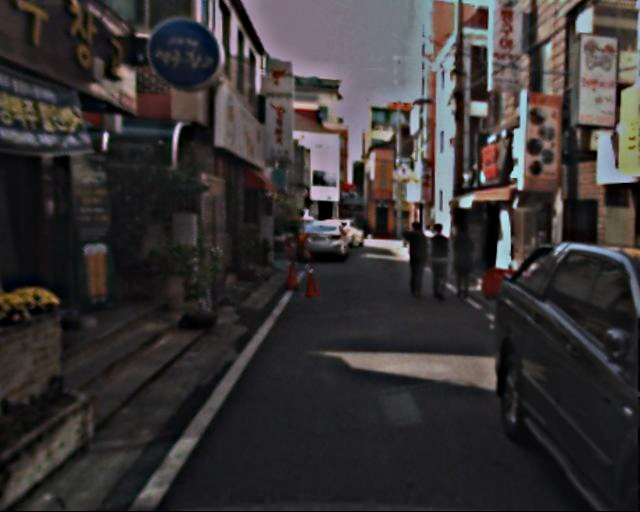person: (445, 218, 480, 304), (421, 219, 455, 302), (400, 222, 432, 300)
